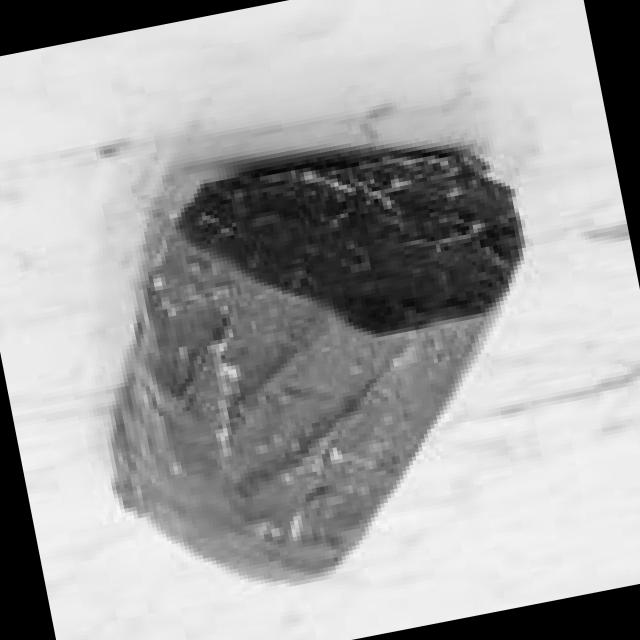filet: (51, 126, 574, 586)
